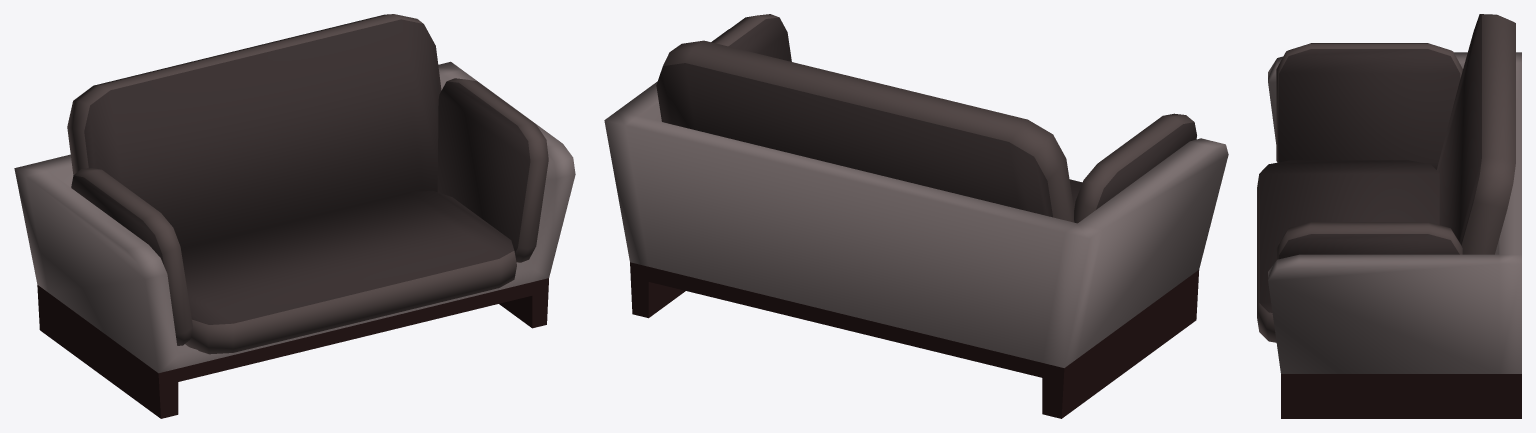
File: TwoSeater_Couch.glb
3 renders of one model, left to right at view 1: azimuth 30°, elevation 25°; view 2: azimuth 150°, elevation 25°; view 3: azimuth 270°, elevation 25°, orthographic. The views are drawn at different scales.
Parts seen in each view (by area): view 1: 2seater; view 2: 2seater; view 3: 2seater.
Boxes of the visible parts, x1,y1,x2,y2 form: 2seater: (14, 14, 575, 418); 2seater: (604, 14, 1228, 418); 2seater: (1257, 14, 1521, 418).
Size of what is drawn, in the model's own units: 2.8 by 1.48 by 1.48.
1 material, 1 textured.
